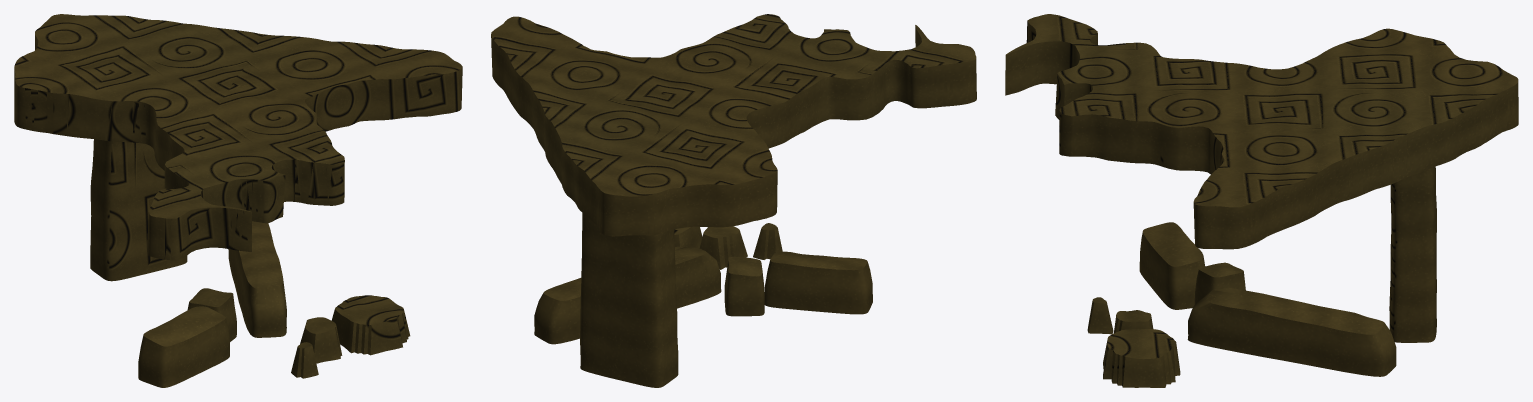
File: CREHenge13.glb
3 renders of one model, left to right at view 1: azimuth 30°, elevation 25°; view 2: azimuth 150°, elevation 25°; view 3: azimuth 270°, elevation 25°, orthographic. The views are drawn at different scales.
Parts seen in each view (by area): view 1: CREHenge13_cap0; view 2: CREHenge13_cap0; view 3: CREHenge13_cap0.
Part boxes in pixels (x1,y1,x2,y2): CREHenge13_cap0: (14, 14, 462, 387); CREHenge13_cap0: (491, 14, 976, 387); CREHenge13_cap0: (1005, 14, 1518, 387).
Size of the model in its own units: 5.9 by 3.22 by 6.59.
Materials: 2 (2 with a texture image).
